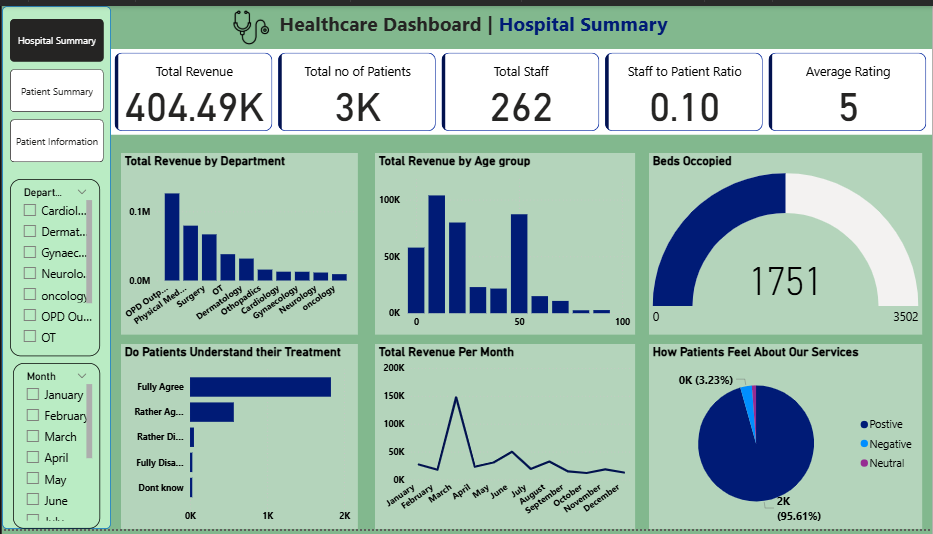

The page's visual inventory and layout, read from the dashboard file:
{"tool":"powerbi","page":{"name":"Hospital Summary","canvas":[1280,720],"ordinal":0},"visuals":[{"type":"clusteredColumnChart","title":"Total Revenue by Department","fields":{"Category":["Department.Department_Name"],"Y":["Measure Total.Total Revenue"]},"box":[163.8,202.3,326.2,250.5],"z":0},{"type":"clusteredColumnChart","fields":{"Category":["Detail data dataset.Age group"],"Y":["Measure Total.Total Revenue"]},"box":[513.4,202.3,357.8,250.5],"z":1000},{"type":"gauge","fields":{"Y":["Measure Total.Beds Occopied"]},"box":[890.5,202.3,375.7,250.5],"z":2000},{"type":"clusteredBarChart","title":"Do Patients Understand their Treatment","fields":{"Category":["Detail data dataset.Feedback"],"Y":["Measure Total.Total no of Patients"]},"box":[163.8,465.2,326.2,254.6],"z":3000},{"type":"lineChart","title":"Total Revenue Per Month","fields":{"Category":["Detail data dataset.Date.Variation.Date Hierarchy.Month"],"Y":["Measure Total.Total Revenue"]},"box":[513.4,465.2,357.8,254.6],"z":4000},{"type":"pieChart","title":"How Patients Feel About Our Services","fields":{"Category":["Detail data dataset.FZ me"],"Y":["Detail data dataset.Total Patients"]},"box":[890.5,465.2,375.7,254.6],"z":5000},{"type":"shape","box":[0,0,150,719.8],"z":5500},{"type":"textbox","box":[312.4,0,673,59.2],"z":6000},{"type":"pageNavigator","box":[11,17.9,129.4,199.6],"z":8000},{"type":"slicer","fields":{"Values":["Detail data dataset.Date.Variation.Date Hierarchy.Month"]},"box":[15.1,491.4,119.7,228.5],"z":9000},{"type":"slicer","fields":{"Values":["Department.Department_Name"]},"box":[11,238.1,123.9,243.6],"z":9500},{"type":"cardVisual","fields":{"Data":["Measure Total.Total Revenue","Measure Total.Total no of Patients","Measure Total.Total Staff","Measure Total.Staff to Patient Ratio","Measure Total.Average Rating"]},"box":[150,59.2,1130,118.4],"z":10000},{"type":"image","box":[294.5,0,97.7,59.2],"z":10001}]}

Visuals, with their boxes in screenshot pixels (x1, y1, x2, y2), scaled from the page's 1280x720 canvas onto the 933x534 screenshot:
"Total Revenue by Department" clusteredColumnChart: (x1=119, y1=150, x2=357, y2=336)
clusteredColumnChart - Detail data dataset.Age group x Measure Total.Total Revenue: (x1=374, y1=150, x2=635, y2=336)
gauge - Measure Total.Beds Occopied: (x1=649, y1=150, x2=923, y2=336)
"Do Patients Understand their Treatment" clusteredBarChart: (x1=119, y1=345, x2=357, y2=533)
"Total Revenue Per Month" lineChart: (x1=374, y1=345, x2=635, y2=533)
"How Patients Feel About Our Services" pieChart: (x1=649, y1=345, x2=923, y2=533)
shape: (x1=0, y1=0, x2=109, y2=533)
textbox: (x1=228, y1=0, x2=718, y2=44)
pageNavigator: (x1=8, y1=13, x2=102, y2=161)
slicer - Detail data dataset.Date.Variation.Date Hierarchy.Month: (x1=11, y1=364, x2=98, y2=533)
slicer - Department.Department_Name: (x1=8, y1=177, x2=98, y2=357)
cardVisual - Measure Total.Total Revenue x Measure Total.Total no of Patients: (x1=109, y1=44, x2=932, y2=132)
image: (x1=215, y1=0, x2=286, y2=44)
